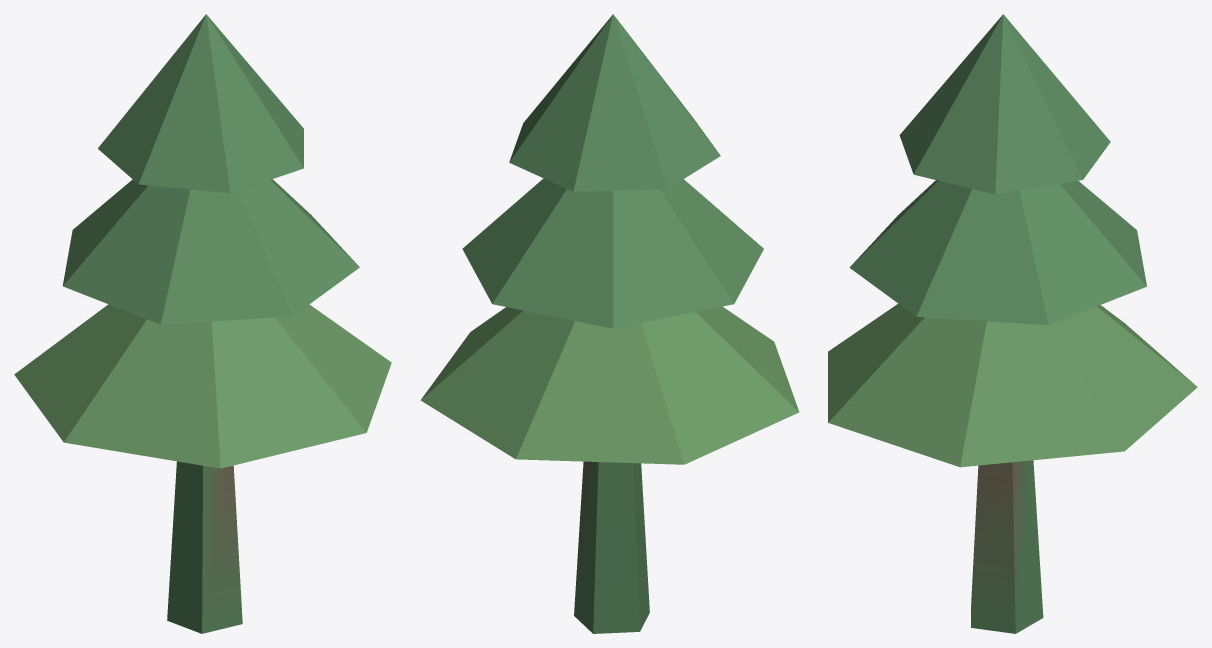
Rendered from pine_1.glb.
3 views of the same model, side by side, from view 1: azimuth 30°, elevation 25°; view 2: azimuth 150°, elevation 25°; view 3: azimuth 270°, elevation 25° (orthographic).
Visible parts, largest first — view 1: Pine1; view 2: Pine1; view 3: Pine1.
Boxes of the visible parts, <box> form: Pine1: <box>14,14,391,633</box>; Pine1: <box>420,14,799,633</box>; Pine1: <box>828,14,1197,633</box>.
Bounding box in the file's own units: 0.5967 × 1.05 × 0.5817.
